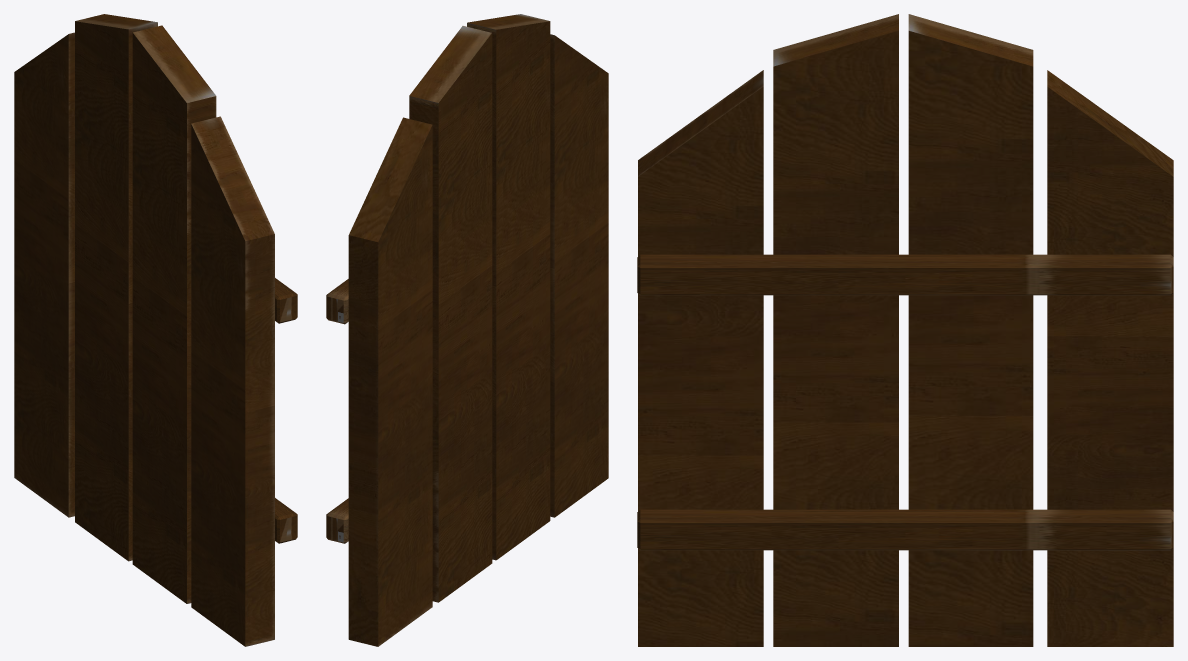
The model's file is Portao.fbx.
3 views of the same model, side by side, from view 1: azimuth 30°, elevation 25°; view 2: azimuth 150°, elevation 25°; view 3: azimuth 270°, elevation 25° (orthographic). The views are drawn at different scales.
Visible parts, largest first — view 1: polySurface4; view 2: polySurface4; view 3: polySurface4.
Boxes of the visible parts, <box> form: polySurface4: <box>14,14,297,646</box>; polySurface4: <box>326,14,608,646</box>; polySurface4: <box>637,14,1173,646</box>.
Bounding box in the file's own units: 5.79 × 55.14 × 43.47.
Materials: 1 (1 with a texture image).
